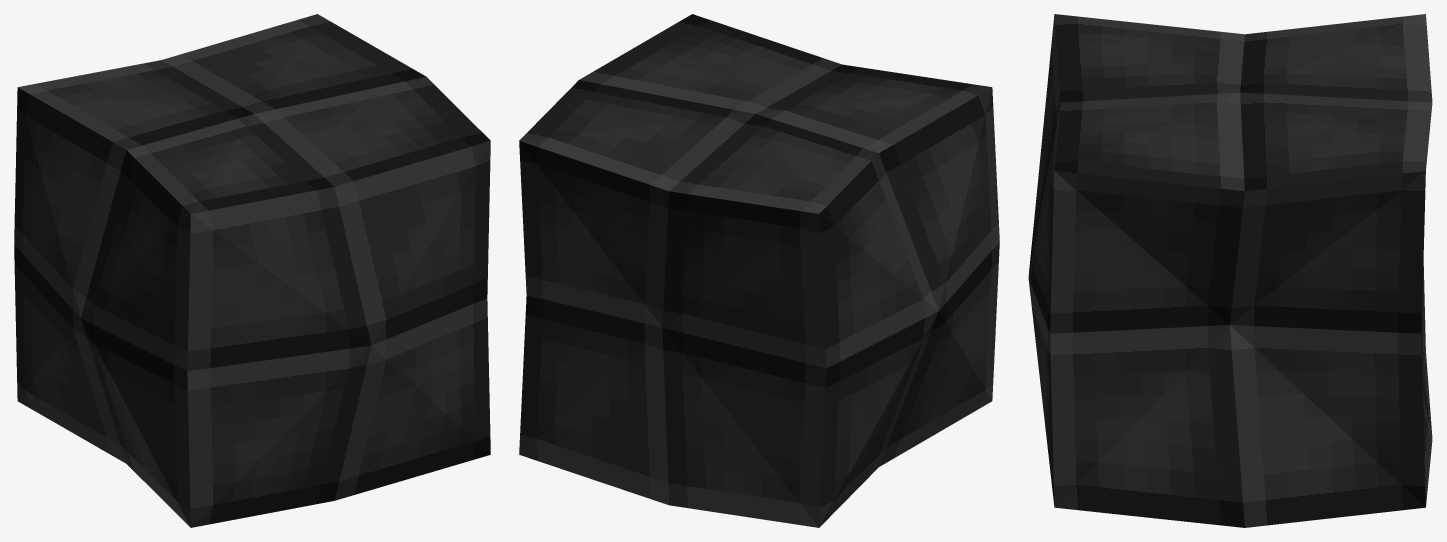
Rendered from rbmk_debris_blackened.obj.
The picture shows the model from 3 angles, left to right: view 1: azimuth 30°, elevation 25°; view 2: azimuth 150°, elevation 25°; view 3: azimuth 270°, elevation 25°; orthographic projection. The views are drawn at different scales.
Parts seen in each view (by area): view 1: Cube; view 2: Cube; view 3: Cube.
Part boxes in pixels (left/top/right/bottom): Cube: left=14, top=14, right=490, bottom=527; Cube: left=519, top=14, right=999, bottom=527; Cube: left=1028, top=14, right=1432, bottom=527.
Bounding box in the file's own units: 1.18 × 1.03 × 1.09.
